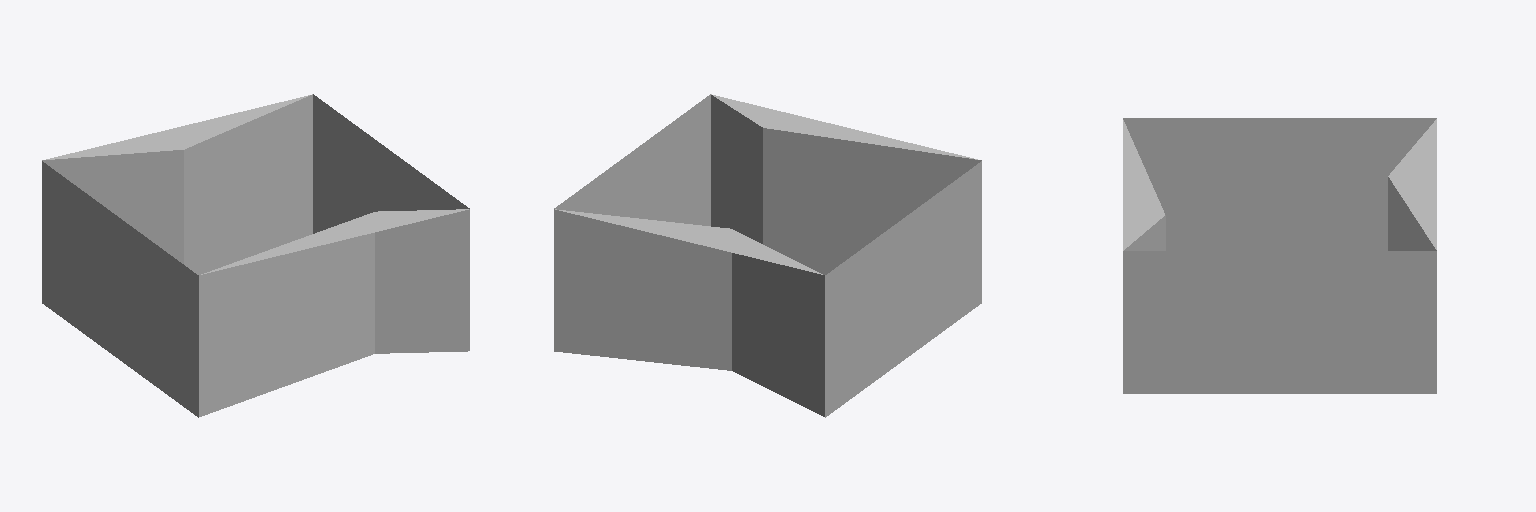
The model's file is WaterPreiew.obj.
The picture shows the model from 3 angles: view 1: azimuth 30°, elevation 25°; view 2: azimuth 150°, elevation 25°; view 3: azimuth 270°, elevation 25°; orthographic projection.
Parts seen in each view (by area): view 1: Plane.001; view 2: Plane.001; view 3: Plane.001.
Boxes of the visible parts, box(x1,y1,x2,y2) form: Plane.001: box(42, 94, 469, 417); Plane.001: box(554, 94, 981, 417); Plane.001: box(1123, 118, 1436, 393).
Size of the model in its own units: 2 by 1 by 2.